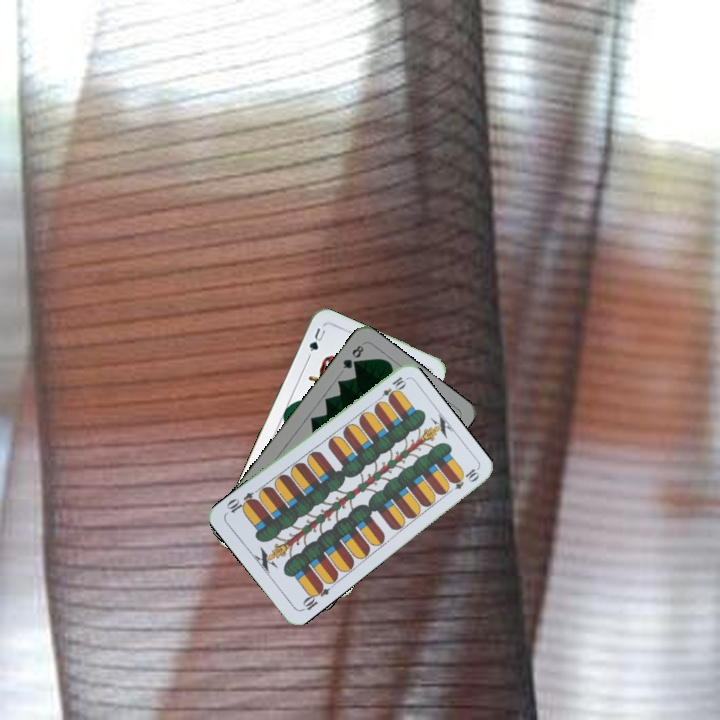E10: (297, 579, 332, 614), (373, 373, 408, 405)
G8: (338, 341, 366, 371)
GU: (305, 324, 328, 354)
